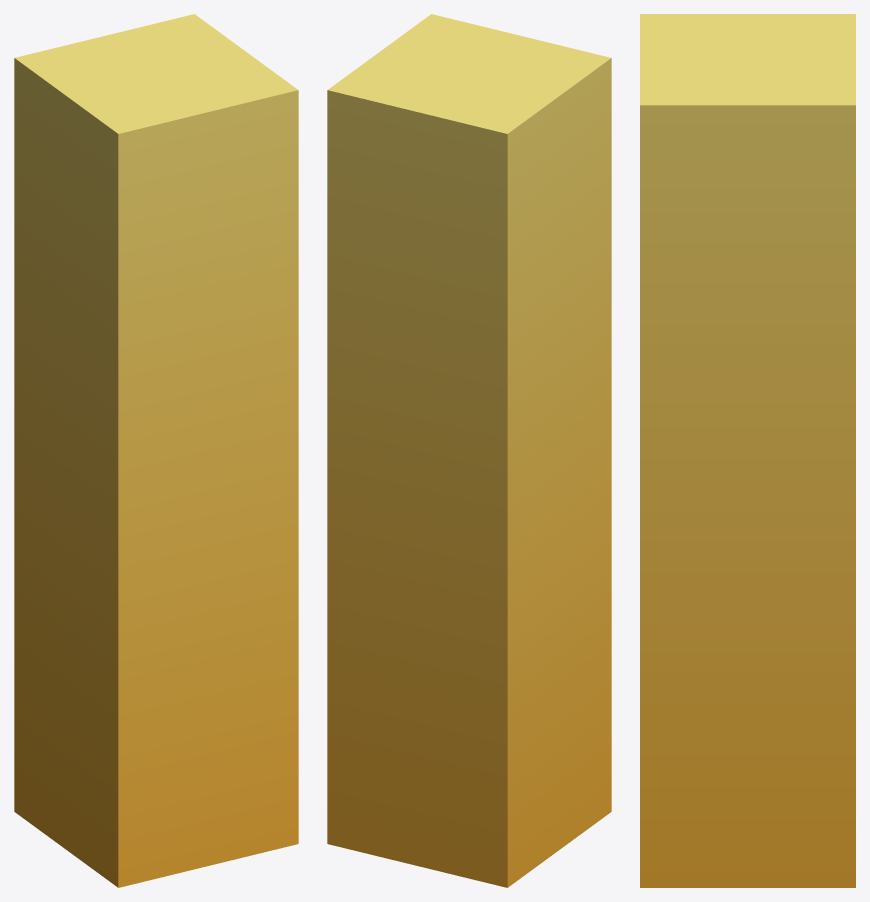
File: primitive_pillar.glb
3 renders of one model, left to right at view 1: azimuth 30°, elevation 25°; view 2: azimuth 150°, elevation 25°; view 3: azimuth 270°, elevation 25°, orthographic. The views are drawn at different scales.
Visible parts, largest first — view 1: Primitive_Pillar; view 2: Primitive_Pillar; view 3: Primitive_Pillar.
Part boxes in pixels (<box>): Primitive_Pillar: <box>14,14,298,887</box>; Primitive_Pillar: <box>327,14,611,887</box>; Primitive_Pillar: <box>640,14,855,887</box>.
Size of the model in its own units: 1 by 4 by 1.
1 material, 1 textured.
